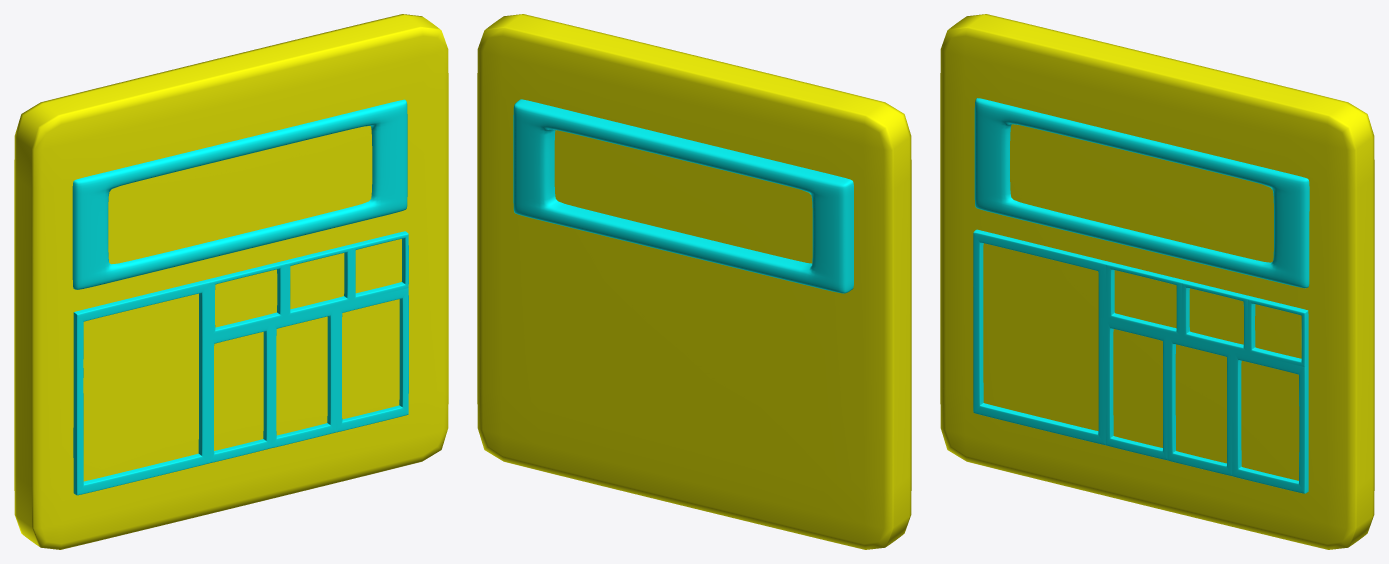
3 views of the same model, side by side, from view 1: azimuth 30°, elevation 25°; view 2: azimuth 150°, elevation 25°; view 3: azimuth 330°, elevation 25° (orthographic).
Parts seen in each view (by area): view 1: polySurface1031; view 2: polySurface1031; view 3: polySurface1031.
Part boxes in pixels (bbox=[...]): polySurface1031: bbox=[14, 14, 448, 549]; polySurface1031: bbox=[477, 14, 911, 549]; polySurface1031: bbox=[940, 14, 1374, 549].
Size of the model in its own units: 0.9994 by 0.9994 by 0.1498.
